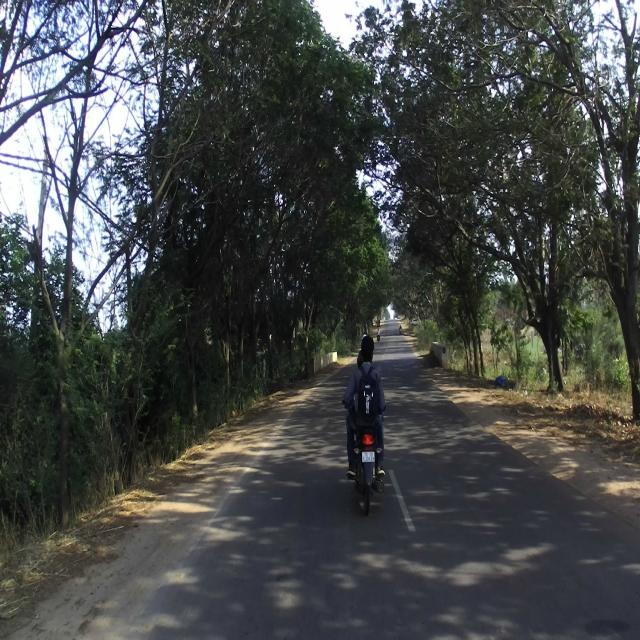motorcycle_Honda: (341, 397, 385, 515)
